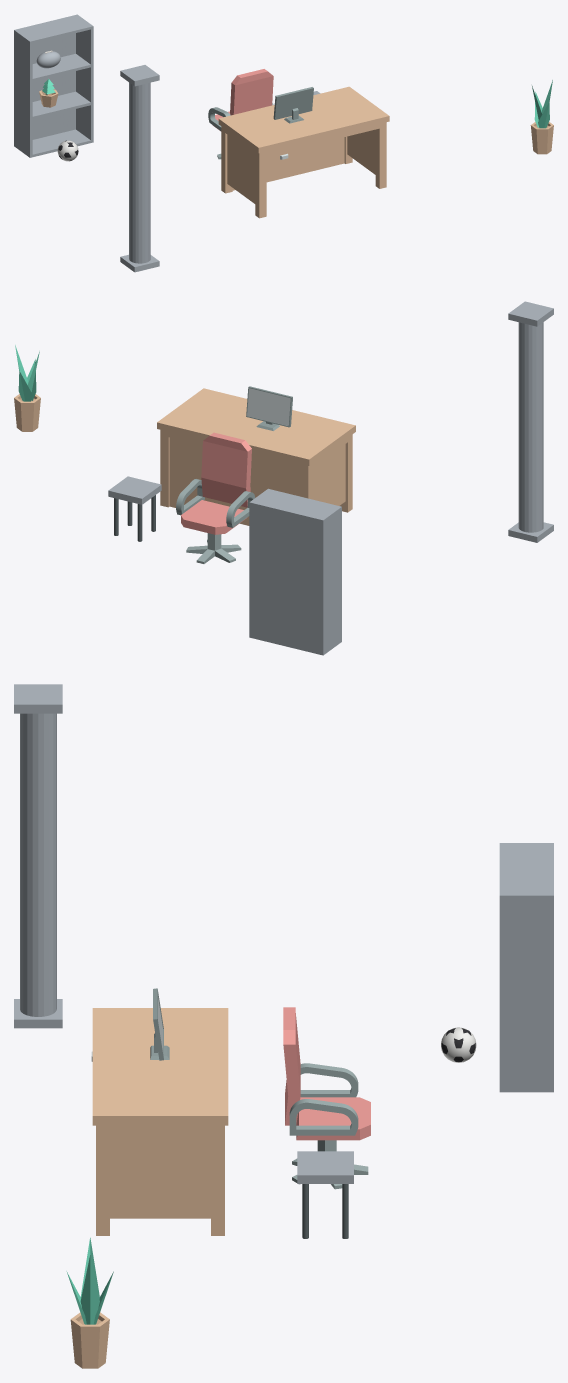
The picture shows the model from 3 angles, top to bottom: view 1: azimuth 30°, elevation 25°; view 2: azimuth 150°, elevation 25°; view 3: azimuth 270°, elevation 25°; orthographic projection. The views are drawn at different scales.
Visible parts, largest first — view 1: desk_blue__desk(Clone), column_cyan__column_cyan shaft, shelf_orange__shelf_orange back, shelf_orange__shelf_orange side_l, deskchair_black__chair, shelf_orange__shelf_orange side_r, monitor_gray__computerScreen(Clone), shelf_orange__shelf_orange board3, shelf_orange__shelf_orange board0, shelf_orange__shelf_orange board1, shelf_orange__shelf_orange board2, plant_pink__pottedPlant(Clone) (+7 smaller); view 2: desk_blue__desk(Clone), shelf_orange__shelf_orange back, deskchair_black__chair, column_cyan__column_cyan shaft, shelf_orange__shelf_orange side_l, monitor_gray__computerScreen(Clone), shelf_orange__shelf_orange board3, stool_purple__stool_purple seat, deskchair_black__chairDesk(Clone), plant_pink__pottedPlant(Clone), column_cyan__column_cyan capital, plant_pink__plant (+2 smaller); view 3: desk_blue__desk(Clone), column_cyan__column_cyan shaft, shelf_orange__shelf_orange side_r, deskchair_black__chair, shelf_orange__shelf_orange board3, stool_purple__stool_purple seat, plant_pink__pottedPlant(Clone), column_cyan__column_cyan capital, plant_pink__plant, soccer_white__soccer_white, column_cyan__column_cyan plinth.
Part boxes in pixels (x1,y1,x2,y2): desk_blue__desk(Clone): (218,86,389,218); column_cyan__column_cyan shaft: (129,82,150,263); shelf_orange__shelf_orange back: (17,15,75,139); shelf_orange__shelf_orange side_l: (14,29,32,157); deskchair_black__chair: (208,69,273,131); shelf_orange__shelf_orange side_r: (75,14,93,142); monitor_gray__computerScreen(Clone): (273,87,313,123); shelf_orange__shelf_orange board3: (18,16,90,43); shelf_orange__shelf_orange board0: (32,129,90,156); shelf_orange__shelf_orange board1: (32,91,90,119); shelf_orange__shelf_orange board2: (32,53,90,81); plant_pink__pottedPlant(Clone): (530,122,553,154); desk_blue__desk(Clone): (157,388,355,525); shelf_orange__shelf_orange back: (252,502,320,654); deskchair_black__chair: (176,432,255,534); column_cyan__column_cyan shaft: (518,322,543,532); shelf_orange__shelf_orange side_l: (320,506,341,655); monitor_gray__computerScreen(Clone): (246,386,292,430); shelf_orange__shelf_orange board3: (254,489,338,518); stool_purple__stool_purple seat: (108,476,161,504); deskchair_black__chairDesk(Clone): (186,533,241,563); plant_pink__pottedPlant(Clone): (14,394,40,431); column_cyan__column_cyan capital: (508,301,553,326); plant_pink__plant: (15,345,39,401); desk_blue__desk(Clone): (92,1008,228,1235); column_cyan__column_cyan shaft: (20,713,56,1016); shelf_orange__shelf_orange side_r: (499,893,553,1092); deskchair_black__chair: (283,1007,370,1140); shelf_orange__shelf_orange board3: (499,845,550,893); stool_purple__stool_purple seat: (297,1151,353,1183); plant_pink__pottedPlant(Clone): (70,1312,109,1368); column_cyan__column_cyan capital: (14,684,62,713); plant_pink__plant: (66,1237,113,1324); soccer_white__soccer_white: (441,1027,476,1062); column_cyan__column_cyan plinth: (14,999,62,1028).
Size of the model in its own units: 5.31 by 2.2 by 3.33.
